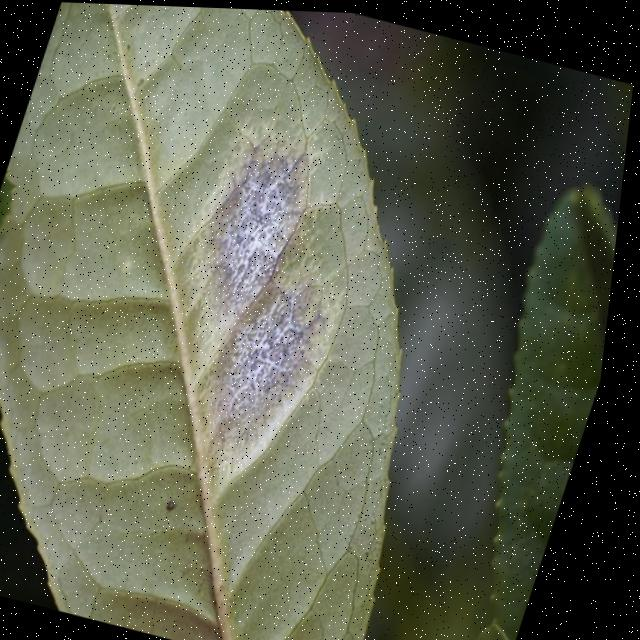Tea exobasidium blight: (209, 261, 362, 445), (194, 140, 312, 307)
